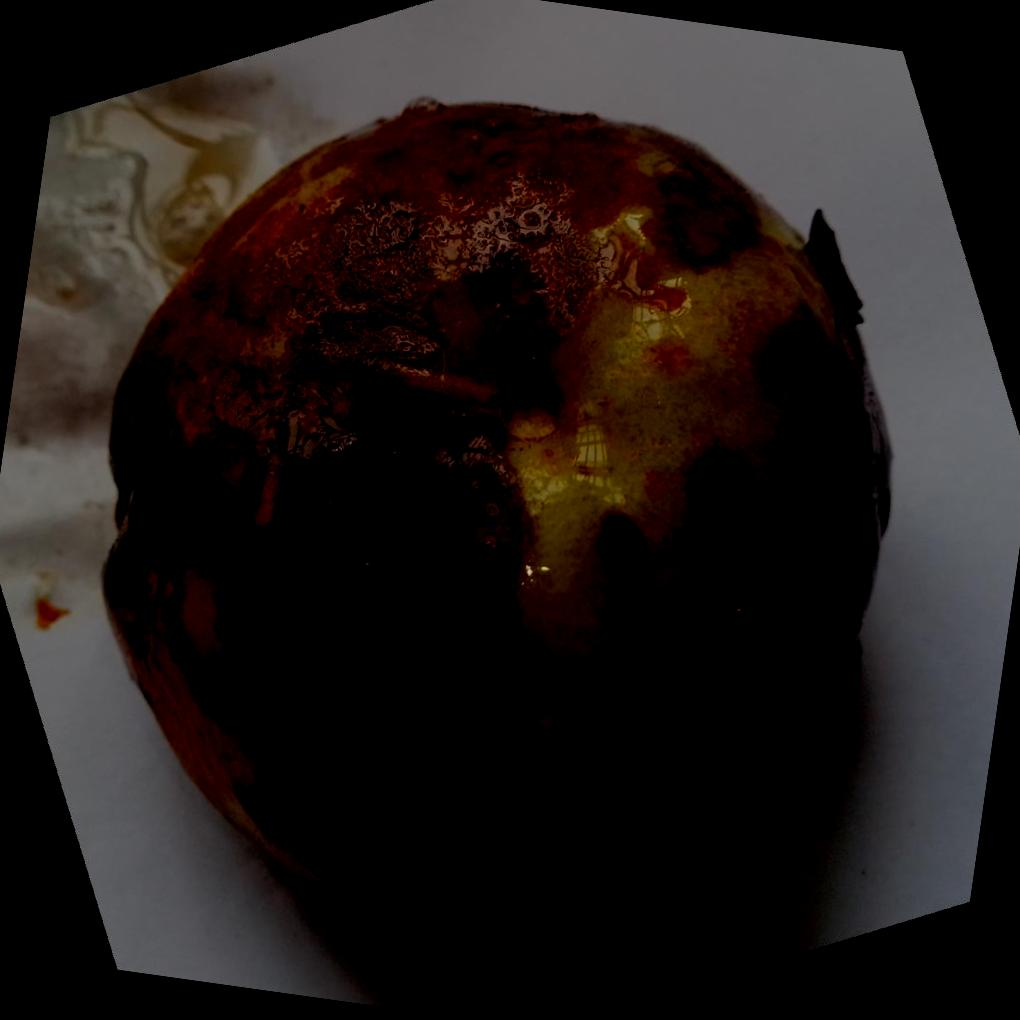FreshOrange: (104, 101, 896, 950)
